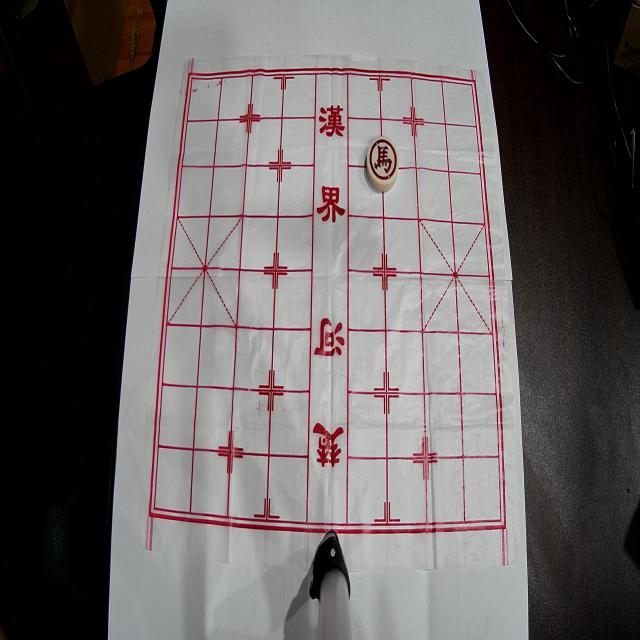red-horse: (366, 136, 398, 192)
